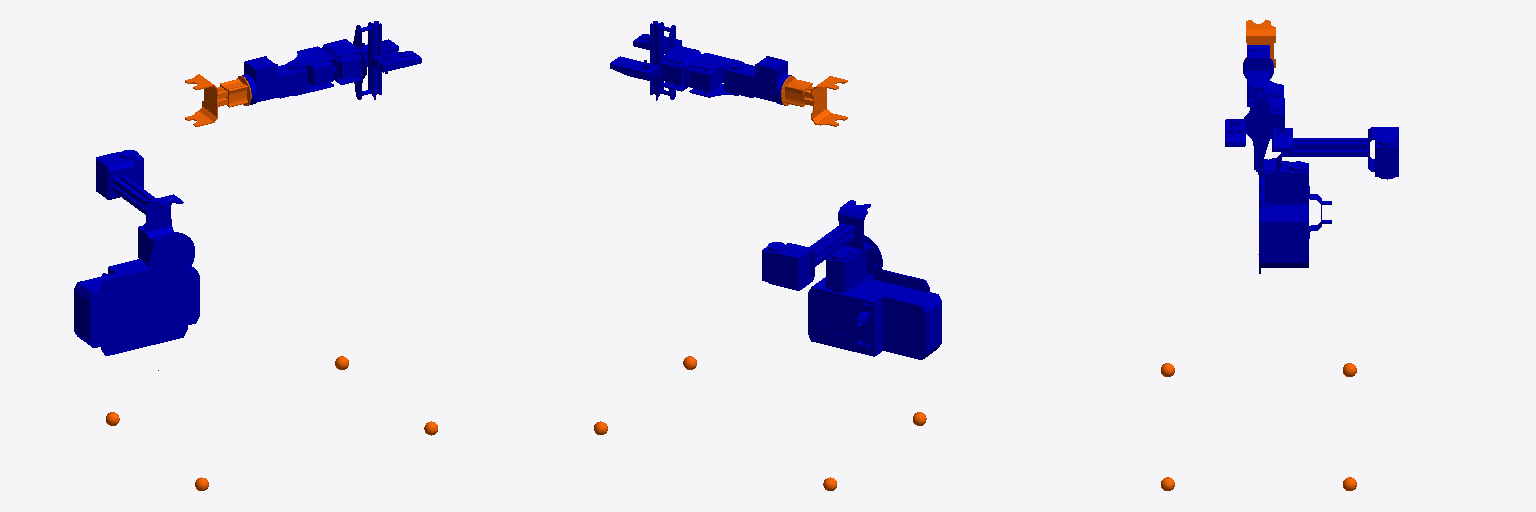
--- What the picture shows (computed from the rendered views, not written in the file) ---
Views: 3 orthographic renders of the robot side by side, from view 1: azimuth 30°, elevation 25°; view 2: azimuth 150°, elevation 25°; view 3: azimuth 270°, elevation 25°.
Robot: go1 — 33 links, 32 joints (18 revolute, 2 prismatic, 12 fixed); root link base; default pose: all joints at 0 but 4 set to mid-range because 0 is outside their limits (FR_calf_joint = -1.78, FL_calf_joint = -1.78, RR_calf_joint = -1.78, RL_calf_joint = -1.78).
Links seen in each view (by area): view 1: sagittarius_base_link, link2, link6, link4, link3, link1, link5, link_gripper_right; view 2: sagittarius_base_link, link2, link6, link4, link1, link3, link5, link_gripper_left; view 3: sagittarius_base_link, link2, link1, link6, link4, link3, link_gripper_right.
Boxes of the visible links, <box> form: sagittarius_base_link: <box>74,259,199,355</box>; link2: <box>96,150,183,244</box>; link6: <box>321,21,381,99</box>; link4: <box>242,56,307,105</box>; link3: <box>185,74,251,126</box>; link1: <box>138,223,194,270</box>; link5: <box>287,46,335,95</box>; link_gripper_right: <box>373,51,421,73</box>; sagittarius_base_link: <box>808,269,941,359</box>; link2: <box>762,200,870,290</box>; link6: <box>650,21,701,100</box>; link4: <box>724,56,791,105</box>; link1: <box>826,235,882,292</box>; link3: <box>781,76,847,126</box>; link5: <box>689,53,744,97</box>; link_gripper_left: <box>610,56,658,80</box>; sagittarius_base_link: <box>1259,162,1331,273</box>; link2: <box>1256,127,1398,179</box>; link1: <box>1259,159,1308,208</box>; link6: <box>1244,86,1284,174</box>; link4: <box>1243,45,1273,106</box>; link3: <box>1243,20,1275,67</box>; link_gripper_right: <box>1225,119,1245,146</box>.
Bounding box of the posed robot: 0.5182 × 0.3326 × 0.6007 m (x, y, z).
Meshes: 14 distinct files referenced, 9 mesh visuals loaded (9 Collada DAE); not drawn: 13 (reference not matched to a file when rendering).

The robot description file, URDF, robot "go1":
<?xml version="1.0" ?>
<!-- =================================================================================== -->
<!-- |    This document was autogenerated by xacro from robot.xacro                    | -->
<!-- |    EDITING THIS FILE BY HAND IS NOT RECOMMENDED                                 | -->
<!-- =================================================================================== -->
<robot name="go1" xmlns:xacro="http://www.ros.org/wiki/xacro">
  <material name="black">
    <color rgba="0.0 0.0 0.0 1.0"/>
  </material>
  <material name="blue">
    <color rgba="0.0 0.0 0.8 1.0"/>
  </material>
  <material name="green">
    <color rgba="0.0 0.8 0.0 1.0"/>
  </material>
  <material name="grey">
    <color rgba="0.2 0.2 0.2 1.0"/>
  </material>
  <material name="silver">
    <color rgba="0.913725490196 0.913725490196 0.847058823529 1.0"/>
  </material>
  <material name="orange">
    <color rgba="1.0 0.423529411765 0.0392156862745 1.0"/>
  </material>
  <material name="brown">
    <color rgba="0.870588235294 0.811764705882 0.764705882353 1.0"/>
  </material>
  <material name="red">
    <color rgba="0.8 0.0 0.0 1.0"/>
  </material>
  <material name="white">
    <color rgba="1.0 1.0 1.0 1.0"/>
  </material>
 
  <link name="base">
    <visual>
      <origin rpy="0 0 0" xyz="0 0 0"/>
      <geometry>
        <box size="0.001 0.001 0.001"/>
      </geometry>
    </visual>
  </link>
  <joint name="floating_base" type="fixed">
    <origin rpy="0 0 0" xyz="0 0 0"/>
    <parent link="base"/>
    <child link="trunk"/>
  </joint>
  <link name="trunk">
    <visual>
      <origin rpy="0 0 0" xyz="0 0 0"/>
      <geometry>
        <mesh filename="../meshes/trunk.dae" scale="1 1 1"/>
      </geometry>
      <material name="orange"/>
    </visual>
    <collision>
      <origin rpy="0 0 0" xyz="0 0 0"/>
      <geometry>
        <!-- <box size="0.3762 0.0935 0.114"/> -->
        <box size="0.4062 0.1 0.114"/>
      </geometry>
    </collision>
    <inertial>
      <origin rpy="0 0 0" xyz="0.0223 0.002 -0.0005"/>
      <mass value="5.204"/>
      <!-- <mass value="2.204"/> -->
      <inertia ixx="0.0168352186" ixy="0.0004636141" ixz="0.0002367952" iyy="0.0656071082" iyz="3.6671e-05" izz="0.0742720659"/>
    </inertial>
  </link>
  <joint name="imu_joint" type="fixed">
    <parent link="trunk"/>
    <child link="imu_link"/>
    <origin rpy="0 0 0" xyz="-0.01592 -0.06659 -0.00617"/>
  </joint>
  <link name="imu_link">
    <inertial>
      <mass value="0.001"/>
      <origin rpy="0 0 0" xyz="0 0 0"/>
      <inertia ixx="0.0001" ixy="0" ixz="0" iyy="0.0001" iyz="0" izz="0.0001"/>
    </inertial>
    <visual>
      <origin rpy="0 0 0" xyz="0 0 0"/>
      <geometry>
        <box size="0.001 0.001 0.001"/>
      </geometry>
      <material name="red"/>
    </visual>
    <collision>
      <origin rpy="0 0 0" xyz="0 0 0"/>
      <geometry>
        <box size=".001 .001 .001"/>
      </geometry>
    </collision>
  </link>
  <joint name="FR_hip_joint" type="revolute">
    <origin rpy="0 0 0" xyz="0.1881 -0.04675 0"/>
    <parent link="trunk"/>
    <child link="FR_hip"/>
    <axis xyz="1 0 0"/>
    <dynamics damping="0.0" friction="0"/>
    <limit effort="23.7" lower="-1.0471975512" upper="1.0471975512" velocity="30.1"/>
  </joint>
  <link name="FR_hip">
    <visual>
      <origin rpy="3.14159265359 0 0" xyz="0 0 0"/>
      <geometry>
        <mesh filename="../meshes/hip.dae" scale="1 1 1"/>
      </geometry>
      <material name="orange"/>
    </visual>
    <collision>
      <origin rpy="1.57079632679 0 0" xyz="0 0 0"/>
      <geometry>
        <cylinder length="0.04" radius="0.046"/>
      </geometry>
    </collision>
    <inertial>
      <origin rpy="0 0 0" xyz="-0.00541 0.00074 6e-06"/>
      <mass value="0.591"/>
      <inertia ixx="0.000374268192" ixy="-3.6844422e-05" ixz="-9.86754e-07" iyy="0.000635923669" iyz="1.172894e-06" izz="0.000457647394"/>
    </inertial>
  </link>
  <joint name="FR_hip_fixed" type="fixed">
    <origin rpy="0 0 0" xyz="0 -0.08 0"/>
    <parent link="FR_hip"/>
    <child link="FR_thigh_shoulder"/>
  </joint>
  <!-- this link is only for collision -->
  <link name="FR_thigh_shoulder">
    <collision>
      <origin rpy="1.57079632679 0 0" xyz="0 0 0"/>
      <geometry>
        <cylinder length="0.032" radius="0.041"/>
      </geometry>
    </collision>
  </link>
  <joint name="FR_thigh_joint" type="revolute">
    <origin rpy="0 0 0" xyz="0 -0.08 0"/>
    <parent link="FR_hip"/>
    <child link="FR_thigh"/>
    <axis xyz="0 1 0"/>
    <dynamics damping="0.0" friction="0"/>
    <limit effort="23.7" lower="-0.663225115758" upper="2.96705972839" velocity="30.1"/>
  </joint>
  <link name="FR_thigh">
    <visual>
      <origin rpy="0 0 0" xyz="0 0 0"/>
      <geometry>
        <mesh filename="../meshes/thigh_mirror.dae" scale="1 1 1"/>
      </geometry>
      <material name="orange"/>
    </visual>
    <collision>
      <origin rpy="0 1.57079632679 0" xyz="0 0 -0.1065"/>
      <geometry>
        <box size="0.213 0.0245 0.034"/>
      </geometry>
    </collision>
    <inertial>
      <origin rpy="0 0 0" xyz="-0.003468 0.018947 -0.032736"/>
      <mass value="0.92"/>
      <inertia ixx="0.005851561134" ixy="-1.783284e-06" ixz="0.000328291374" iyy="0.005596155105" iyz="-2.1430713e-05" izz="0.00107157026"/>
    </inertial>
  </link>
  <joint name="FR_calf_joint" type="revolute">
    <origin rpy="0 0 0" xyz="0 0 -0.213"/>
    <parent link="FR_thigh"/>
    <child link="FR_calf"/>
    <axis xyz="0 1 0"/>
    <dynamics damping="0.0" friction="0"/>
    <limit effort="23.7" lower="-2.72271363311" upper="-0.837758040957" velocity="30.1"/>
  </joint>
  <link name="FR_calf">
    <visual>
      <origin rpy="0 0 0" xyz="0 0 0"/>
      <geometry>
        <mesh filename="../meshes/calf.dae" scale="1 1 1"/>
      </geometry>
      <material name="orange"/>
    </visual>
    <collision>
      <origin rpy="0 1.57079632679 0" xyz="0 0 -0.1065"/>
      <geometry>
        <box size="0.213 0.016 0.016"/>
      </geometry>
    </collision>
    <inertial>
      <origin rpy="0 0 0" xyz="0.006286 0.001307 -0.122269"/>
      <mass value="0.131"/>
      <inertia ixx="0.002939186297" ixy="1.440899e-06" ixz="-0.00010535955" iyy="0.00295576935" iyz="-2.4397752e-05" izz="3.0273372e-05"/>
    </inertial>
  </link>
  <joint name="FR_foot_fixed" type="fixed" dont_collapse="true">
    <origin rpy="0 0 0" xyz="0 0 -0.213"/>
    <parent link="FR_calf"/>
    <child link="FR_foot"/>
  </joint>
  <link name="FR_foot">
    <visual>
      <origin rpy="0 0 0" xyz="0 0 0"/>
      <geometry>
        <sphere radius="0.01"/>
      </geometry>
      <material name="orange"/>
    </visual>
    <collision>
      <origin rpy="0 0 0" xyz="0 0 0"/>
      <geometry>
        <sphere radius="0.02"/>
      </geometry>
    </collision>
    <inertial>
      <mass value="0.06"/>
      <inertia ixx="9.6e-06" ixy="0.0" ixz="0.0" iyy="9.6e-06" iyz="0.0" izz="9.6e-06"/>
    </inertial>
  </link>

  <joint name="FL_hip_joint" type="revolute">
    <origin rpy="0 0 0" xyz="0.1881 0.04675 0"/>
    <parent link="trunk"/>
    <child link="FL_hip"/>
    <axis xyz="1 0 0"/>
    <dynamics damping="0.0" friction="0"/>
    <limit effort="23.7" lower="-1.0471975512" upper="1.0471975512" velocity="30.1"/>
  </joint>
  <link name="FL_hip">
    <visual>
      <origin rpy="0 0 0" xyz="0 0 0"/>
      <geometry>
        <mesh filename="../meshes/hip.dae" scale="1 1 1"/>
      </geometry>
      <material name="orange"/>
    </visual>
    <collision>
      <origin rpy="1.57079632679 0 0" xyz="0 0 0"/>
      <geometry>
        <cylinder length="0.04" radius="0.046"/>
      </geometry>
    </collision>
    <inertial>
      <origin rpy="0 0 0" xyz="-0.00541 -0.00074 6e-06"/>
      <mass value="0.591"/>
      <inertia ixx="0.000374268192" ixy="3.6844422e-05" ixz="-9.86754e-07" iyy="0.000635923669" iyz="-1.172894e-06" izz="0.000457647394"/>
    </inertial>
  </link>
  <joint name="FL_hip_fixed" type="fixed">
    <origin rpy="0 0 0" xyz="0 0.08 0"/>
    <parent link="FL_hip"/>
    <child link="FL_thigh_shoulder"/>
  </joint>
  <!-- this link is only for collision -->
  <link name="FL_thigh_shoulder">
    <collision>
      <origin rpy="1.57079632679 0 0" xyz="0 0 0"/>
      <geometry>
        <cylinder length="0.032" radius="0.041"/>
      </geometry>
    </collision>
  </link>
  <joint name="FL_thigh_joint" type="revolute">
    <origin rpy="0 0 0" xyz="0 0.08 0"/>
    <parent link="FL_hip"/>
    <child link="FL_thigh"/>
    <axis xyz="0 1 0"/>
    <dynamics damping="0.0" friction="0"/>
    <limit effort="23.7" lower="-0.663225115758" upper="2.96705972839" velocity="30.1"/>
  </joint>
  <link name="FL_thigh">
    <visual>
      <origin rpy="0 0 0" xyz="0 0 0"/>
      <geometry>
        <mesh filename="../meshes/thigh.dae" scale="1 1 1"/>
      </geometry>
      <material name="orange"/>
    </visual>
    <collision>
      <origin rpy="0 1.57079632679 0" xyz="0 0 -0.1065"/>
      <geometry>
        <box size="0.213 0.0245 0.034"/>
      </geometry>
    </collision>
    <inertial>
      <origin rpy="0 0 0" xyz="-0.003468 -0.018947 -0.032736"/>
      <mass value="0.92"/>
      <inertia ixx="0.005851561134" ixy="1.783284e-06" ixz="0.000328291374" iyy="0.005596155105" iyz="2.1430713e-05" izz="0.00107157026"/>
    </inertial>
  </link>
  <joint name="FL_calf_joint" type="revolute">
    <origin rpy="0 0 0" xyz="0 0 -0.213"/>
    <parent link="FL_thigh"/>
    <child link="FL_calf"/>
    <axis xyz="0 1 0"/>
    <dynamics damping="0.0" friction="0"/>
    <limit effort="23.7" lower="-2.72271363311" upper="-0.837758040957" velocity="30.1"/>
  </joint>
  <link name="FL_calf">
    <visual>
      <origin rpy="0 0 0" xyz="0 0 0"/>
      <geometry>
        <mesh filename="../meshes/calf.dae" scale="1 1 1"/>
      </geometry>
      <material name="orange"/>
    </visual>
    <collision>
      <origin rpy="0 1.57079632679 0" xyz="0 0 -0.1065"/>
      <geometry>
        <box size="0.213 0.016 0.016"/>
      </geometry>
    </collision>
    <inertial>
      <origin rpy="0 0 0" xyz="0.006286 0.001307 -0.122269"/>
      <mass value="0.131"/>
      <inertia ixx="0.002939186297" ixy="1.440899e-06" ixz="-0.00010535955" iyy="0.00295576935" iyz="-2.4397752e-05" izz="3.0273372e-05"/>
    </inertial>
  </link>
  <joint name="FL_foot_fixed" type="fixed" dont_collapse="true">
    <origin rpy="0 0 0" xyz="0 0 -0.213"/>
    <parent link="FL_calf"/>
    <child link="FL_foot"/>
  </joint>
  <link name="FL_foot">
    <visual>
      <origin rpy="0 0 0" xyz="0 0 0"/>
      <geometry>
        <sphere radius="0.01"/>
      </geometry>
      <material name="orange"/>
    </visual>
    <collision>
      <origin rpy="0 0 0" xyz="0 0 0"/>
      <geometry>
        <sphere radius="0.02"/>
      </geometry>
    </collision>
    <inertial>
      <mass value="0.06"/>
      <inertia ixx="9.6e-06" ixy="0.0" ixz="0.0" iyy="9.6e-06" iyz="0.0" izz="9.6e-06"/>
    </inertial>
  </link>

  <joint name="RR_hip_joint" type="revolute">
    <origin rpy="0 0 0" xyz="-0.1881 -0.04675 0"/>
    <parent link="trunk"/>
    <child link="RR_hip"/>
    <axis xyz="1 0 0"/>
    <dynamics damping="0.0" friction="0"/>
    <limit effort="23.7" lower="-1.0471975512" upper="1.0471975512" velocity="30.1"/>
  </joint>
  <link name="RR_hip">
    <visual>
      <origin rpy="3.14159265359 3.14159265359 0" xyz="0 0 0"/>
      <geometry>
        <mesh filename="../meshes/hip.dae" scale="1 1 1"/>
      </geometry>
      <material name="orange"/>
    </visual>
    <collision>
      <origin rpy="1.57079632679 0 0" xyz="0 0 0"/>
      <geometry>
        <cylinder length="0.04" radius="0.046"/>
      </geometry>
    </collision>
    <inertial>
      <origin rpy="0 0 0" xyz="0.00541 0.00074 6e-06"/>
      <mass value="0.591"/>
      <inertia ixx="0.000374268192" ixy="3.6844422e-05" ixz="9.86754e-07" iyy="0.000635923669" iyz="1.172894e-06" izz="0.000457647394"/>
    </inertial>
  </link>
  <joint name="RR_hip_fixed" type="fixed">
    <origin rpy="0 0 0" xyz="0 -0.08 0"/>
    <parent link="RR_hip"/>
    <child link="RR_thigh_shoulder"/>
  </joint>
  <!-- this link is only for collision -->
  <link name="RR_thigh_shoulder">
    <collision>
      <origin rpy="1.57079632679 0 0" xyz="0 0 0"/>
      <geometry>
        <cylinder length="0.032" radius="0.041"/>
      </geometry>
    </collision>
  </link>
  <joint name="RR_thigh_joint" type="revolute">
    <origin rpy="0 0 0" xyz="0 -0.08 0"/>
    <parent link="RR_hip"/>
    <child link="RR_thigh"/>
    <axis xyz="0 1 0"/>
    <dynamics damping="0.0" friction="0"/>
    <limit effort="23.7" lower="-0.663225115758" upper="2.96705972839" velocity="30.1"/>
  </joint>
  <link name="RR_thigh">
    <visual>
      <origin rpy="0 0 0" xyz="0 0 0"/>
      <geometry>
        <mesh filename="../meshes/thigh_mirror.dae" scale="1 1 1"/>
      </geometry>
      <material name="orange"/>
    </visual>
    <collision>
      <origin rpy="0 1.57079632679 0" xyz="0 0 -0.1065"/>
      <geometry>
        <box size="0.213 0.0245 0.034"/>
      </geometry>
    </collision>
    <inertial>
      <origin rpy="0 0 0" xyz="-0.003468 0.018947 -0.032736"/>
      <mass value="0.92"/>
      <inertia ixx="0.005851561134" ixy="-1.783284e-06" ixz="0.000328291374" iyy="0.005596155105" iyz="-2.1430713e-05" izz="0.00107157026"/>
    </inertial>
  </link>
  <joint name="RR_calf_joint" type="revolute">
    <origin rpy="0 0 0" xyz="0 0 -0.213"/>
    <parent link="RR_thigh"/>
    <child link="RR_calf"/>
    <axis xyz="0 1 0"/>
    <dynamics damping="0.0" friction="0"/>
    <limit effort="23.7" lower="-2.72271363311" upper="-0.837758040957" velocity="30.1"/>
  </joint>
  <link name="RR_calf">
    <visual>
      <origin rpy="0 0 0" xyz="0 0 0"/>
      <geometry>
        <mesh filename="../meshes/calf.dae" scale="1 1 1"/>
      </geometry>
      <material name="orange"/>
    </visual>
    <collision>
      <origin rpy="0 1.57079632679 0" xyz="0 0 -0.1065"/>
      <geometry>
        <box size="0.213 0.016 0.016"/>
      </geometry>
    </collision>
    <inertial>
      <origin rpy="0 0 0" xyz="0.006286 0.001307 -0.122269"/>
      <mass value="0.131"/>
      <inertia ixx="0.002939186297" ixy="1.440899e-06" ixz="-0.00010535955" iyy="0.00295576935" iyz="-2.4397752e-05" izz="3.0273372e-05"/>
    </inertial>
  </link>
  <joint name="RR_foot_fixed" type="fixed" dont_collapse="true">
    <origin rpy="0 0 0" xyz="0 0 -0.213"/>
    <parent link="RR_calf"/>
    <child link="RR_foot"/>
  </joint>
  <link name="RR_foot">
    <visual>
      <origin rpy="0 0 0" xyz="0 0 0"/>
      <geometry>
        <sphere radius="0.01"/>
      </geometry>
      <material name="orange"/>
    </visual>
    <collision>
      <origin rpy="0 0 0" xyz="0 0 0"/>
      <geometry>
        <sphere radius="0.02"/>
      </geometry>
    </collision>
    <inertial>
      <mass value="0.06"/>
      <inertia ixx="9.6e-06" ixy="0.0" ixz="0.0" iyy="9.6e-06" iyz="0.0" izz="9.6e-06"/>
    </inertial>
  </link>
  
  <joint name="RL_hip_joint" type="revolute">
    <origin rpy="0 0 0" xyz="-0.1881 0.04675 0"/>
    <parent link="trunk"/>
    <child link="RL_hip"/>
    <axis xyz="1 0 0"/>
    <dynamics damping="0.0" friction="0"/>
    <limit effort="23.7" lower="-1.0471975512" upper="1.0471975512" velocity="30.1"/>
  </joint>
  <link name="RL_hip">
    <visual>
      <origin rpy="0 3.14159265359 0" xyz="0 0 0"/>
      <geometry>
        <mesh filename="../meshes/hip.dae" scale="1 1 1"/>
      </geometry>
      <material name="orange"/>
    </visual>
    <collision>
      <origin rpy="1.57079632679 0 0" xyz="0 0 0"/>
      <geometry>
        <cylinder length="0.04" radius="0.046"/>
      </geometry>
    </collision>
    <inertial>
      <origin rpy="0 0 0" xyz="0.00541 -0.00074 6e-06"/>
      <mass value="0.591"/>
      <inertia ixx="0.000374268192" ixy="-3.6844422e-05" ixz="9.86754e-07" iyy="0.000635923669" iyz="-1.172894e-06" izz="0.000457647394"/>
    </inertial>
  </link>
  <joint name="RL_hip_fixed" type="fixed">
    <origin rpy="0 0 0" xyz="0 0.08 0"/>
    <parent link="RL_hip"/>
    <child link="RL_thigh_shoulder"/>
  </joint>
  <!-- this link is only for collision -->
  <link name="RL_thigh_shoulder">
    <collision>
      <origin rpy="1.57079632679 0 0" xyz="0 0 0"/>
      <geometry>
        <cylinder length="0.032" radius="0.041"/>
      </geometry>
    </collision>
  </link>
  <joint name="RL_thigh_joint" type="revolute">
    <origin rpy="0 0 0" xyz="0 0.08 0"/>
    <parent link="RL_hip"/>
    <child link="RL_thigh"/>
    <axis xyz="0 1 0"/>
    <dynamics damping="0.0" friction="0"/>
    <limit effort="23.7" lower="-0.663225115758" upper="2.96705972839" velocity="30.1"/>
  </joint>
  <link name="RL_thigh">
    <visual>
      <origin rpy="0 0 0" xyz="0 0 0"/>
      <geometry>
        <mesh filename="../meshes/thigh.dae" scale="1 1 1"/>
      </geometry>
      <material name="orange"/>
    </visual>
    <collision>
      <origin rpy="0 1.57079632679 0" xyz="0 0 -0.1065"/>
      <geometry>
        <box size="0.213 0.0245 0.034"/>
      </geometry>
    </collision>
    <inertial>
      <origin rpy="0 0 0" xyz="-0.003468 -0.018947 -0.032736"/>
      <mass value="0.92"/>
      <inertia ixx="0.005851561134" ixy="1.783284e-06" ixz="0.000328291374" iyy="0.005596155105" iyz="2.1430713e-05" izz="0.00107157026"/>
    </inertial>
  </link>
  <joint name="RL_calf_joint" type="revolute">
    <origin rpy="0 0 0" xyz="0 0 -0.213"/>
    <parent link="RL_thigh"/>
    <child link="RL_calf"/>
    <axis xyz="0 1 0"/>
    <dynamics damping="0.0" friction="0"/>
    <limit effort="23.7" lower="-2.72271363311" upper="-0.837758040957" velocity="30.1"/>
  </joint>
  <link name="RL_calf">
    <visual>
      <origin rpy="0 0 0" xyz="0 0 0"/>
      <geometry>
        <mesh filename="../meshes/calf.dae" scale="1 1 1"/>
      </geometry>
      <material name="orange"/>
    </visual>
    <collision>
      <origin rpy="0 1.57079632679 0" xyz="0 0 -0.1065"/>
      <geometry>
        <box size="0.213 0.016 0.016"/>
      </geometry>
    </collision>
    <inertial>
      <origin rpy="0 0 0" xyz="0.006286 0.001307 -0.122269"/>
      <mass value="0.131"/>
      <inertia ixx="0.002939186297" ixy="1.440899e-06" ixz="-0.00010535955" iyy="0.00295576935" iyz="-2.4397752e-05" izz="3.0273372e-05"/>
    </inertial>
  </link>
  <joint name="RL_foot_fixed" type="fixed" dont_collapse="true">
    <origin rpy="0 0 0" xyz="0 0 -0.213"/>
    <parent link="RL_calf"/>
    <child link="RL_foot"/>
  </joint>
  <link name="RL_foot">
    <visual>
      <origin rpy="0 0 0" xyz="0 0 0"/>
      <geometry>
        <sphere radius="0.01"/>
      </geometry>
      <material name="orange"/>
    </visual>
    <collision>
      <origin rpy="0 0 0" xyz="0 0 0"/>
      <geometry>
        <sphere radius="0.02"/>
      </geometry>
    </collision>
    <inertial>
      <mass value="0.06"/>
      <inertia ixx="9.6e-06" ixy="0.0" ixz="0.0" iyy="9.6e-06" iyz="0.0" izz="9.6e-06"/>
    </inertial>
  </link>
<!-- connect with the arm -->

<!-- <xacro:property name="UnitreeGripper" value="false"/> -->
  <!-- <link name="world"/> -->
  <joint name="base_static_joint" type="fixed">
    <origin rpy="-1.57 0 0" xyz="0. 0 0.06"/>
    <parent link="trunk"/>
    <child link="sagittarius_base_link"/>
  </joint>

  <link
    name="sagittarius_base_link">
    <inertial>
      <origin
        xyz="0.00793179544277737 2.48115460577673E-19 0.0312047945759253"
        rpy="0 0 0" />
      <mass value="0.940146705073746" />
      <!-- <mass value="0.140146705073746" /> -->
      <inertia
        ixx="0.000950195835062344"
        ixy="3.14825974312405E-20"
        ixz="-0.000200082473207336"
        iyy="0.00267650790326047"
        iyz="-1.01412991222915E-19"
        izz="0.002902663900239" />
    </inertial>
    <visual>
      <origin
        xyz="0 0 0"
        rpy="0 0 0" />
      <geometry>
        <mesh
          filename="../meshes/sagittarius_base_link.dae" />
      </geometry>
      <material name="blue"/>
    </visual>
    <collision>
      <!-- <origin xyz="0 0 0"  rpy="0 0 0" /> -->
      <origin xyz="0 0 0"  rpy="1.5707963267948966 0 0" />
      <geometry>
         <!-- <mesh filename="../meshes/sagittarius_base_link.dae" /> -->
         <box size="0.177 0.084 0.068"/>
      </geometry>
    </collision>
  </link>

  <joint
    name="joint1"
    type="revolute">
    <!-- <origin  xyz="0.045 0 0.07"  rpy="0 0 0" /> -->
    <origin  xyz="4.5000000e-02 -6.9999979e-02 5.5741000e-05"  rpy="0 0 0" />
    <parent
      link="sagittarius_base_link" />
    <child
      link="link1" />
    <!-- <axis xyz="0 0 -1" /> -->
    <axis xyz="0 1 0" />
    <limit
      lower="-2"
      upper="2"
      effort="20"
      velocity="13.14" />
  </joint>

  <link
    name="link1">
    <inertial>
      <origin
        xyz="-7.74579608786574E-10 3.23354786979222E-12 0.0344870497564283"
        rpy="0 0 0" />
      <mass
        value="0.123745079127031" />
      <inertia
        ixx="8.15779591743416E-05"
        ixy="-4.25325094802094E-15"
        ixz="-2.22201794150093E-12"
        iyy="6.7607001964135E-05"
        iyz="-1.59127137655435E-14"
        izz="4.41297902395382E-05" />
    </inertial>
    <visual>
      <origin xyz="0 0 0" rpy="0 0 0" />
      <geometry>
        <mesh filename="../meshes/link1.dae" />
      </geometry>
      <material name="blue"/>
    </visual>
    <collision>
      <!-- <origin xyz="0 0 0" rpy="0 0 0" /> -->
      <origin xyz="0 -0.024 0" rpy="1.5707963267948966 0 0" />
      <geometry>
        <cylinder length="0.048" radius="0.025"/>
         <!-- <mesh filename="../meshes/link1.dae" />  -->
      </geometry>
    </collision>
  </link>

  <joint
    name="joint2"
    type="revolute">
    <!-- <origin  xyz="0 -0.0001 0.055"  rpy="0 0 0" /> -->
    <origin  xyz="0.00000000e+00 -5.50000631e-02 -0.0001"  rpy="0 0 0" />
    <parent
      link="link1" />
    <child
      link="link2" />
    <!-- <axis xyz="0 -1 0" /> -->
    <axis xyz="0 0 -1" />
    <limit
      lower="-1.57"
      upper="1.4"
      effort="20"
      velocity="13.14" />
  </joint>

  <link
    name="link2">
    <inertial>
      <origin xyz="0.0119015312584793 -1.03639845764692E-08 0.150755903867182"  rpy="0 0 0" />
      <mass
        value="0.156160822791157" />
      <inertia
        ixx="0.000429266751802994"
        ixy="-2.27426165787001E-11"
        ixz="-5.58862834004722E-05"
        iyy="0.000444676097748043"
        iyz="-2.41993274420629E-10"
        izz="7.916162292894E-05" />
    </inertial>
    <visual>
      <origin
        xyz="0 0 0"
        rpy="0 0 0" />
      <geometry>
        <mesh filename="../meshes/link2.dae" />
      </geometry>
      <material name="blue"/>
    </visual>
    <collision>
      <!-- <origin xyz="0 0 0" rpy="0 0 0" /> -->
      <origin xyz="0 -0.095 0" rpy="1.5707963267948966 0 0" />
      <geometry>
        <!-- <mesh filename="../meshes/link2.dae" /> -->
        <cylinder length="0.19" radius="0.015"/>
      </geometry>
    </collision>
  </link> 
  
  
  <joint
    name="joint3"
    type="revolute">
    <!-- <origin xyz="0.033 -0.0001 0.179" rpy="0 0 0" /> -->
    <origin xyz="0.033 -0.179 -0.0001" rpy="0 0 0" />
    <parent
      link="link2" />
    <child
      link="link3" />
    <!-- <axis xyz="0 -1 0" /> -->
    <axis xyz="0 0 -1" />
    <limit
      lower="-1.48"
      upper="1.8"
      effort="20"
      velocity="13.14" />
  </joint>

  <link
    name="link3">
    <inertial>
      <origin
        xyz="0.054357321065004 -2.67256405253992E-08 0.00064594073830132"
        rpy="0 0 0" />
      <mass
        value="0.0366487313200473" />
      <inertia
        ixx="9.28701176876329E-06"
        ixy="-2.23878504272996E-11"
        ixz="6.34310578103811E-07"
        iyy="2.0727596617309E-05"
        iyz="-1.71647322080315E-11"
        izz="2.42416271089979E-05" />
    </inertial>
    <visual>
      <origin
        xyz="0 0 0"
        rpy="0 0 0" />
      <geometry>
        <mesh filename="../meshes/link3.dae" />
      </geometry>
      <material name="orange"/>
    </visual>
    <collision>
      <!-- <origin xyz="0 0 0" rpy="0 0 0" /> -->
      <origin xyz="0 0 0" rpy="1.5707963267948966 0 0" />
      <geometry>
        <!-- <mesh filename="../meshes/link3.dae" /> -->
        <box size="0.07 0.045 0.03"/>
      </geometry>
    </collision>
  </link>

  <joint
    name="joint4"
    type="revolute">
    <origin xyz="0.0845 0 0" rpy="0 0 0" />
    <parent
      link="link3" />
    <child
      link="link4" />
    <axis xyz="-1 0 0" />
    <limit
      lower="-2.90"
      upper="2.90"
      effort="20"
      velocity="13.14" />
  </joint>
  
  <link
    name="link4">
    <inertial>
      <origin
        xyz="0.0444029485674779 -0.00527865310158246 -1.43738021485262E-10"
        rpy="0 0 0" />
      <mass
        value="0.124950088011432" />
      <inertia
        ixx="3.52699895078887E-05"
        ixy="-1.14870103744551E-05"
        ixz="2.45948329713632E-14"
        iyy="0.00010928557067047"
        iyz="-3.42525315676607E-12"
        izz="0.000121451732690361" />
    </inertial>
    <visual>
      <origin
        xyz="0 0 0"
        rpy="0 0 0" />
      <geometry>
        <mesh filename="../meshes/link4.dae" />
      </geometry>
      <material name="blue"/>
    </visual>
    <collision>
      <origin xyz="0 0 0" rpy="0 0 0" />
      <geometry>
        <!-- <mesh filename="../meshes/link4.dae" /> -->
        <box size="0.08 0.05 0.03"/>
      </geometry>
    </collision>
  </link>

  <joint
    name="joint5"
    type="revolute">
    <!-- <origin xyz="0.08435 0.00065 0" rpy="0 0 0" /> -->
    <origin xyz="0.08435 0 0.00065" rpy="0 0 0" />
    <parent
      link="link4" />
    <child
      link="link5" />
    <!-- <axis xyz="0 -1 0" /> -->
    <axis xyz="0 0 -1" />
    <limit
      lower="-1.8"
      upper="1.60"
      effort="20"
      velocity="13.14" />
  </joint>

  <link
    name="link5">
    <inertial>
      <origin
        xyz="0.0391172635125616 1.22102848665318E-15 0.011359922796391"
        rpy="0 0 0" />
      <mass
        value="0.0564710099602834" />
      <inertia
        ixx="1.77667699918498E-05"
        ixy="3.77572698012408E-19"
        ixz="-6.79618041712231E-07"
        iyy="1.89643063051294E-05"
        iyz="1.78381670331667E-19"
        izz="1.66130972969903E-05" />
    </inertial>
    <visual>
      <origin xyz="0 0 0" rpy="0 0 0" />
      <geometry>
        <mesh filename="../meshes/link5.dae" />
      </geometry>
      <material name="blue"/>
    </visual>
    <collision>
      <!-- <origin xyz="0 0 0" rpy="0 0 0" /> -->
      <origin xyz="0 0. 0" rpy="1.5707963267948966 0 0" />
      <geometry>
        <!-- <mesh filename="../meshes/link5.dae" /> -->
        <box size="0.045 0.045 0.045"/>
      </geometry>
    </collision>
  </link>

  <joint
    name="joint6"
    type="revolute">
    <origin
      xyz="0.061387 0 0"
      rpy="0 0 0" />
    <parent
      link="link5" />
    <child
      link="link6" />
    <axis
      xyz="-1 0 0" />
    <limit
      lower="-3.1"
      upper="3.1"
      effort="20"
      velocity="13.14" />
  </joint>
  
  <link
    name="link6">
    <inertial>
      <origin
        xyz="0.0330748503556987 -1.47583477394259E-10 0.00874151659437283"
        rpy="0 0 0" />
      <mass
        value="0.0790875358325134" />
      <inertia
        ixx="4.00727396068743E-05"
        ixy="1.5026227935429E-13"
        ixz="6.77337873337555E-06"
        iyy="4.37063090227749E-05"
        iyz="-1.73263828329941E-13"
        izz="5.69755186998711E-05" />
    </inertial>
    <visual>
      <origin
        xyz="0 0 0"
        rpy="0 0 0" />
      <geometry>
        <mesh filename="../meshes/link6.dae" />
      </geometry>
      <material name="blue"/>
    </visual>
    <collision>
      <origin xyz="0 0. 0" rpy="0 0 0" />
      <geometry>
        <!-- <mesh filename="../meshes/link6.dae" /> -->
        <box size="0.035 0.035 0.035"/>
      </geometry>
    </collision>
  </link>
  

  <link
    name="link_grasping_frame">
    <inertial>
      <origin
        xyz="-0.29292863789122 -0.000855248417215765 -0.182862893125548"
        rpy="0 0 0" />
      <!-- <mass value="1.55422651132493" /> -->
      <mass value="0.055422651132493" />
      <inertia
        ixx="0.0246807389934657"
        ixy="6.12977506319177E-05"
        ixz="-0.0174568851774044"
        iyy="0.0450160124726729"
        iyz="0.000114187269419605"
        izz="0.0218809326193524" />
    </inertial>
  </link>

  <joint
    name="joint_grasping_frame"
    type="fixed">
    <origin
      xyz="0.0557 0 0"
      rpy="0 0 0" />
    <parent
      link="link6" />
    <child
      link="link_grasping_frame" />
    <axis
      xyz="0 0 0" />
    <limit
      lower="0"
      upper="0"
      effort="10"
      velocity="3.14" />
  </joint>

  <link
    name="link_gripper_left">
    <inertial>
      <origin
        xyz="0.0168448613850675 0.00562743947549268 -3.34157867051821E-05"
        rpy="0 0 0" />
      <mass
        value="0.0185082696416839" />
      <inertia
        ixx="1.65620668352765E-06"
        ixy="3.12039082733024E-07"
        ixz="-1.06123823321138E-09"
        iyy="7.56731403094351E-06"
        iyz="5.54920898904154E-11"
        izz="6.37610666327876E-06" />
    </inertial>
    <visual>
      <origin
        xyz="0 0 0"
        rpy="0 0 0" />
      <geometry>
        <mesh
          filename="../meshes/link_gripper_left.dae" />
      </geometry>
      <material name="blue"/>
    </visual>
    <collision>
      <!-- <origin xyz="0 0 0" rpy="0 0 0" /> -->
      <origin xyz="0 0 0" rpy="1.5707963267948966 0 0" />
      <geometry>
        <!-- <mesh filename="../meshes/link_gripper_left.dae" /> -->
        <box size = "0.063 0.01 0.027"/>
      </geometry>
    </collision>
  </link>

  <joint
    name="joint_gripper_left"
    type="prismatic">
    <!-- <origin xyz="0.0695 0.033 0" rpy="0 0 0" /> -->
    <origin xyz="0.0695 0 0.033" rpy="0 0 0" />
    <parent
      link="link6" />
    <child
      link="link_gripper_left" />
    <!-- <axis xyz="0 1 0" /> -->
    <axis xyz="0 0 1" />
    <limit
      lower="-0.034"
      upper="0"
      effort="10"
      velocity="3.14" />
  </joint>

  <link
    name="link_gripper_right">
    <inertial>
      <origin
        xyz="0.0168448612901284 -0.00562743946967042 3.34158424380449E-05"
        rpy="0 0 0" />
      <mass
        value="0.0185082695670405" />
      <inertia
        ixx="1.65620670013429E-06"
        ixy="-3.12039085367371E-07"
        ixz="1.06121397059487E-09"
        iyy="7.56731399585561E-06"
        iyz="5.54960746810554E-11"
        izz="6.37610660879392E-06" />
    </inertial>
    <visual>
      <origin xyz="0 0 0" rpy="0 0 0" />
      <geometry>
        <mesh
          filename="../meshes/link_gripper_right.dae" />
      </geometry>
      <material name="blue"/>
    </visual>
    <collision>
      <!-- <origin xyz="0 0 0" rpy="0 0 0" /> -->
      <origin xyz="0 0 0" rpy="1.5707963267948966 0 0" />
      <geometry>
        <!-- <mesh filename="../meshes/link_gripper_right.dae" /> -->
        <box size = "0.063 0.01 0.027"/>
      </geometry>
    </collision>
  </link>

  <joint
    name="joint_gripper_right"
    type="prismatic">
    <!-- <origin xyz="0.0695 -0.033 0" rpy="0 0 0" /> -->
    <origin xyz="0.0695 0 -0.033" rpy="0 0 0" />
    <parent
      link="link6" />
    <child
      link="link_gripper_right" />
    <!-- <axis xyz="0 -1 0" /> -->
    <axis xyz="0 0 -1" />
    <limit
      lower="-0.034"
      upper="0"
      effort="10"
      velocity="3.14" />
  </joint> 

</robot>
